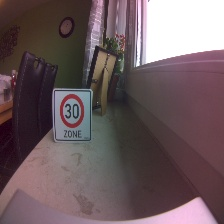dreisiger_zone: (50, 88, 93, 142)
